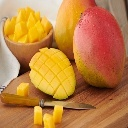mango: (73, 6, 127, 91), (54, 2, 102, 62), (28, 48, 76, 100)
